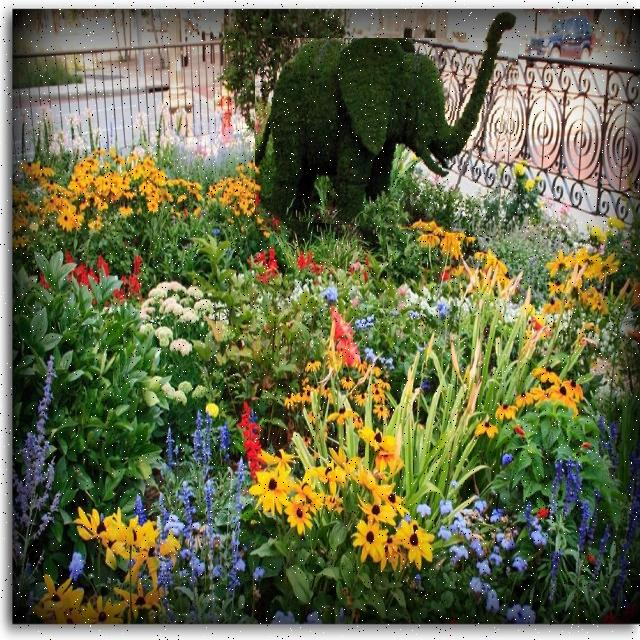elephant: (255, 38, 518, 236)
